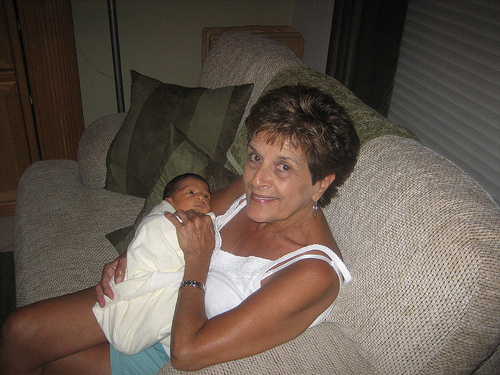without_mask: (234, 104, 343, 228), (165, 173, 221, 227)
